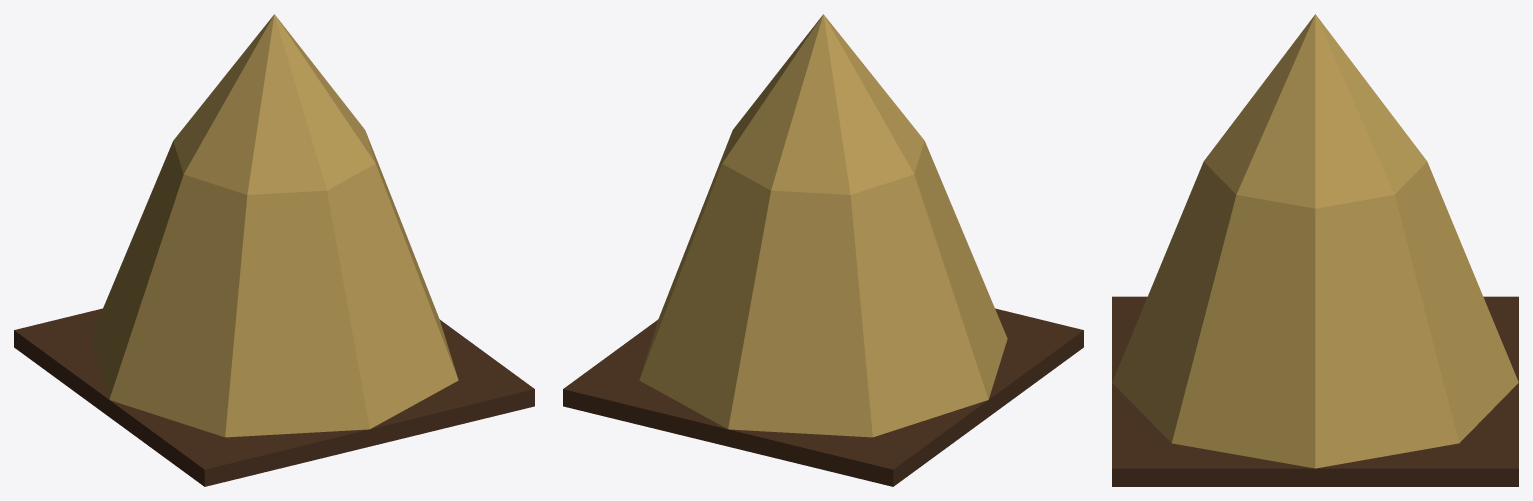
File: prop_haystack.glb
3 renders of one model, left to right at view 1: azimuth 30°, elevation 25°; view 2: azimuth 150°, elevation 25°; view 3: azimuth 270°, elevation 25°, orthographic. The views are drawn at different scales.
Visible parts, largest first — view 1: prop_haystack; view 2: prop_haystack; view 3: prop_haystack.
Boxes of the visible parts, bbox=[...] form: prop_haystack: bbox=[14, 14, 534, 486]; prop_haystack: bbox=[563, 14, 1083, 486]; prop_haystack: bbox=[1112, 14, 1518, 486].
Size of the model in its own units: 2 by 2.1 by 2.
